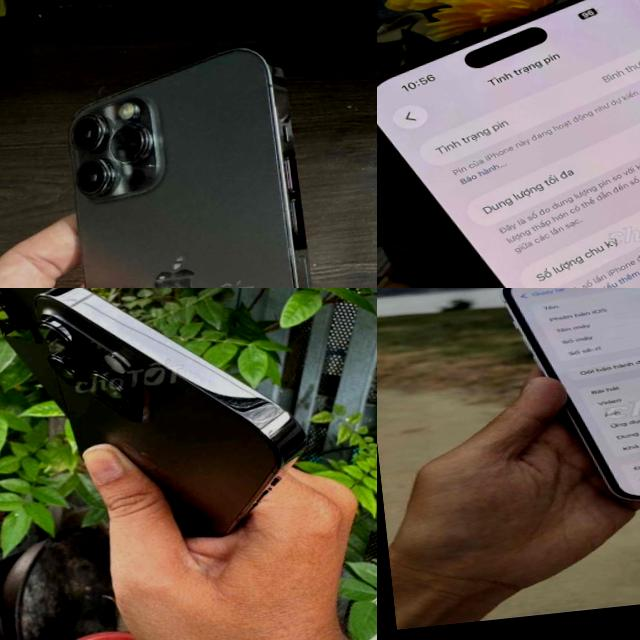gen_12_13: (47, 32, 350, 288)
gen_14: (27, 288, 314, 547), (481, 288, 640, 516)
gen_15: (377, 0, 640, 288)
